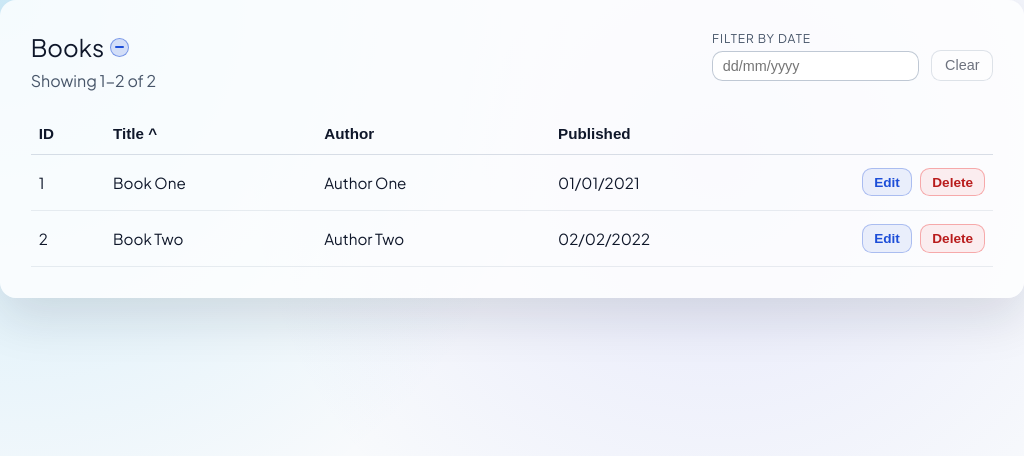
Test: BooksList › enters edit mode and cancels
The width and height of the screenshot is (1024, 456).
Expected: the button "Delete" in the row of "Book One" is shown, 920,168 -> 985,196
clicking in the edit button of the first book [0]
Click the button "Edit" in the row of "Book One" at [887, 182], box 862,168 -> 912,196
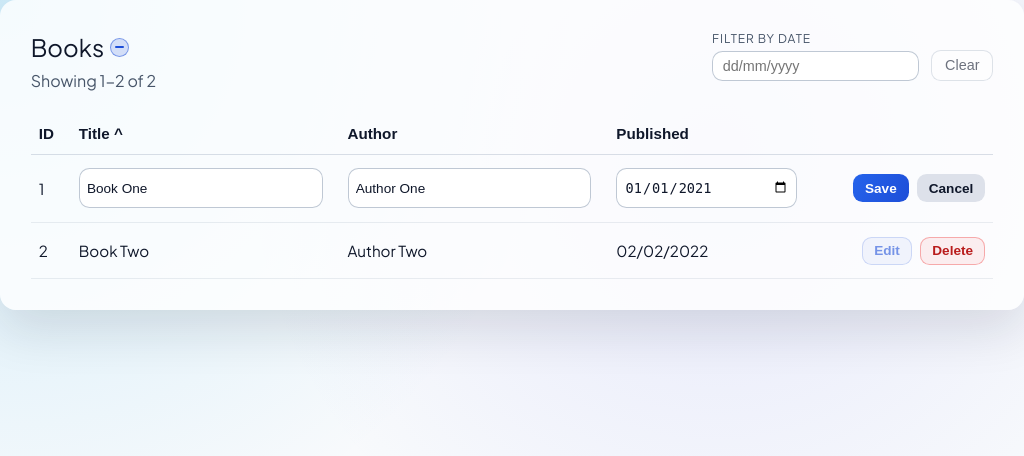
Now the 1st field showing "Book One" is shown, box 79,168 -> 323,208
Now the 2nd field showing "Author One" is shown, box 348,168 -> 591,208
Now the date field showing "2021-01-01" is shown, box 616,168 -> 797,208
we click to cancel
Click the button "Cancel" at [951, 188], box 917,174 -> 985,202
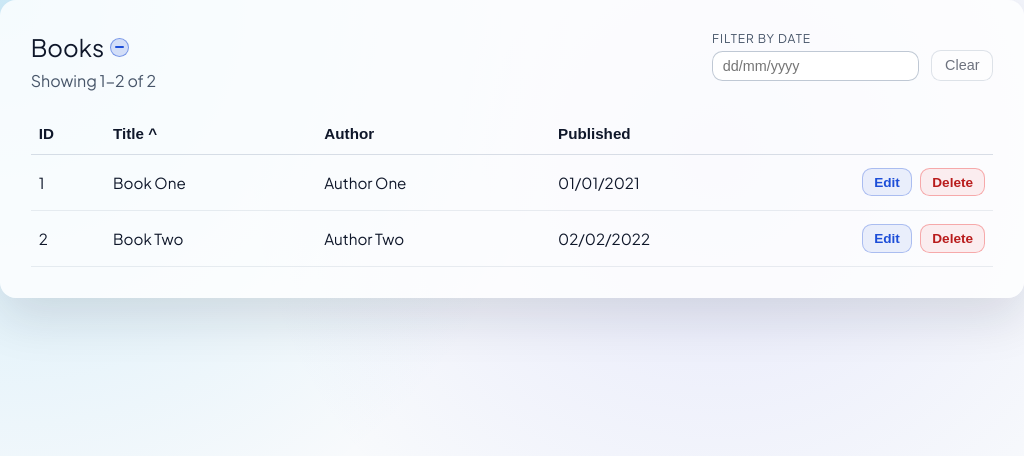
Expected: the field showing "2021-01-01" is not shown
Now the button "Cancel" is gone
Now the button "Save" is gone
